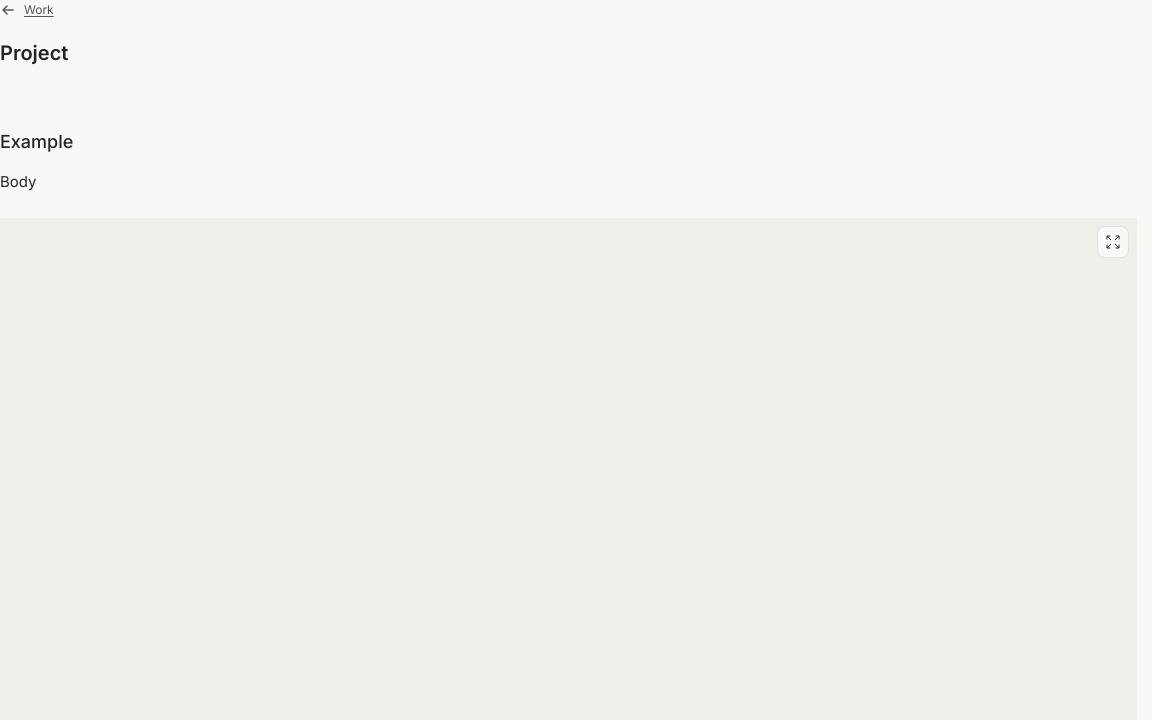
Test case: project media › expands a gray placeholder before real media is added
This screenshot has width=1152, height=720.
Later steps or results of the test are not shown.
Click the button named "Expand media: Example" at (1113, 242), box [1097,226,1129,258]
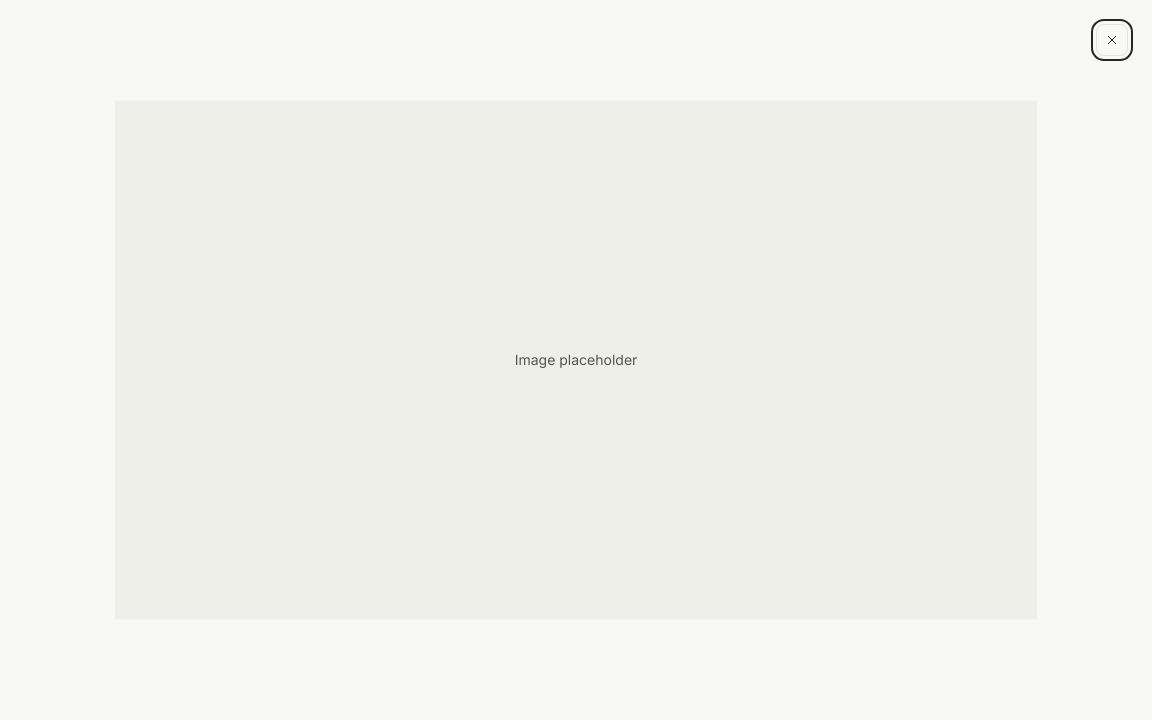
Result: the text "Image placeholder" is shown at [115,101,1037,619]
